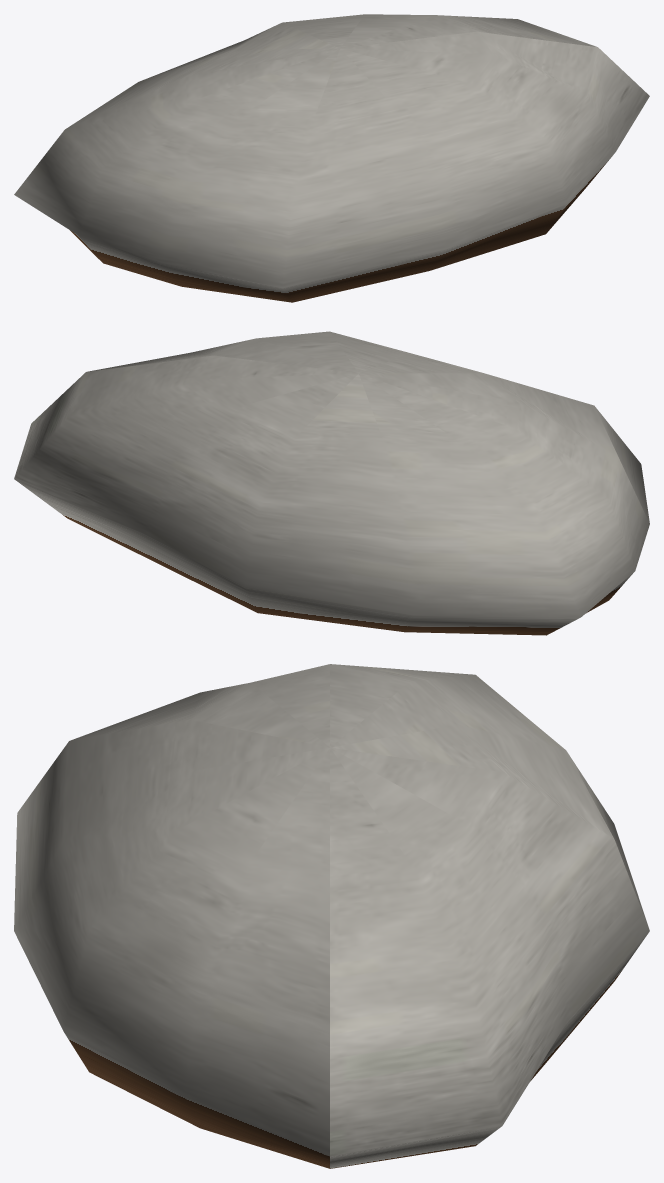
Rendered from kit_sf_pan_salt_p.glb.
3 views of the same model, one above another, from view 1: azimuth 30°, elevation 25°; view 2: azimuth 150°, elevation 25°; view 3: azimuth 270°, elevation 25° (orthographic). The views are drawn at different scales.
Parts seen in each view (by area): view 1: kit_sf_pan_salt_p; view 2: kit_sf_pan_salt_p; view 3: kit_sf_pan_salt_p.
Part boxes in pixels (x1,y1,x2,y2): kit_sf_pan_salt_p: (14,14,649,302); kit_sf_pan_salt_p: (14,331,649,635); kit_sf_pan_salt_p: (14,664,649,1168).
Bounding box in the file's own units: 0.3439 × 0.1085 × 0.22.
1 material, 1 textured.
